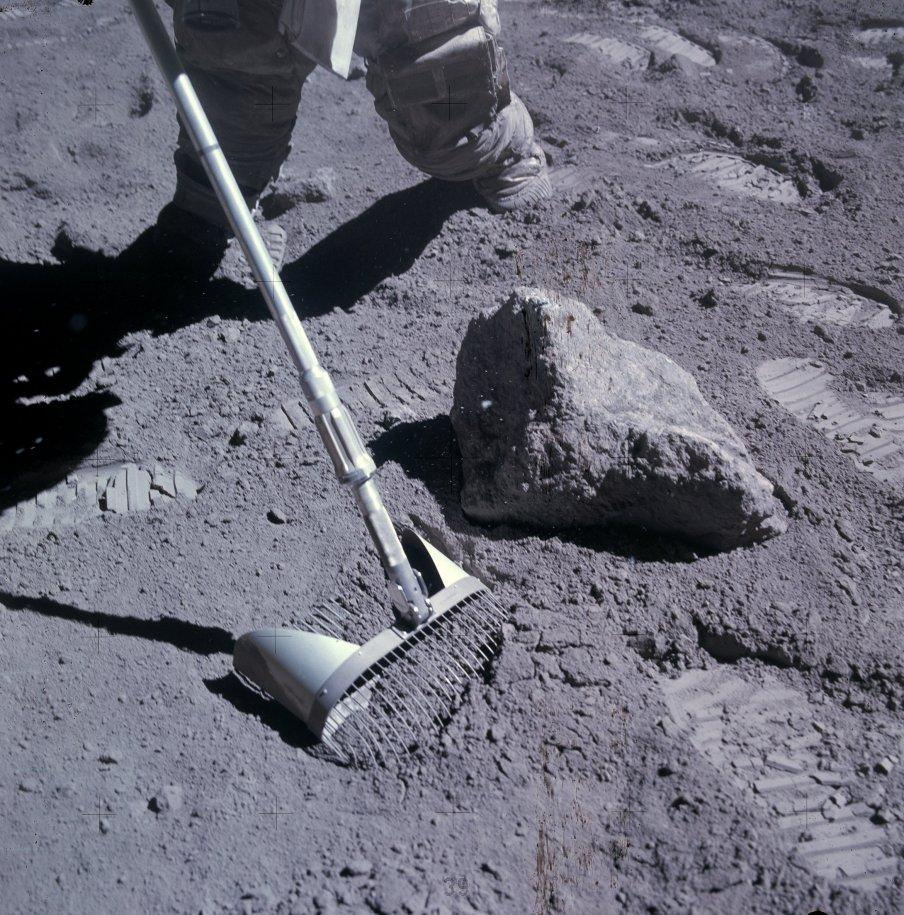rock: (452, 288, 786, 550)
